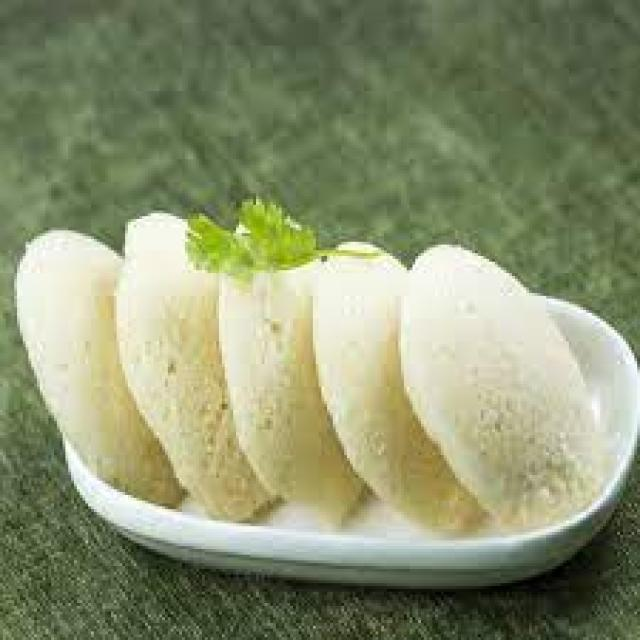idli: (396, 233, 600, 521), (307, 228, 492, 538), (210, 202, 376, 535), (111, 205, 273, 526), (9, 216, 179, 521)
